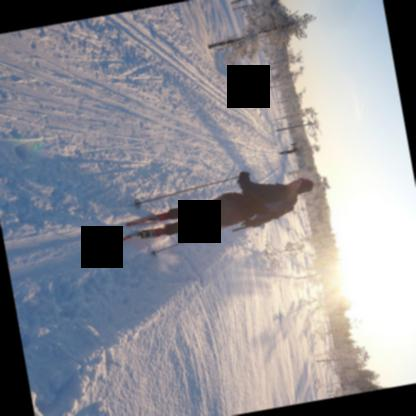backpack: (231, 192, 298, 232)
